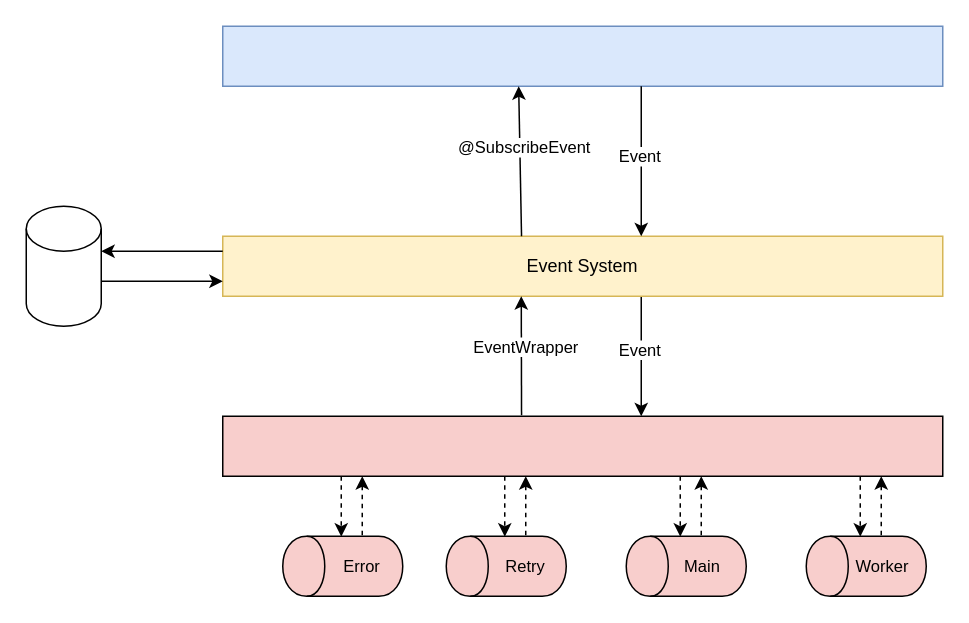
Image size: 969x623. Some labels were removed from this diagram. The centre of each missing label's shape, as x and y in pixels:
Application: point 582,55
Event Database: point 63,265
RabbitMQ: point 582,445
